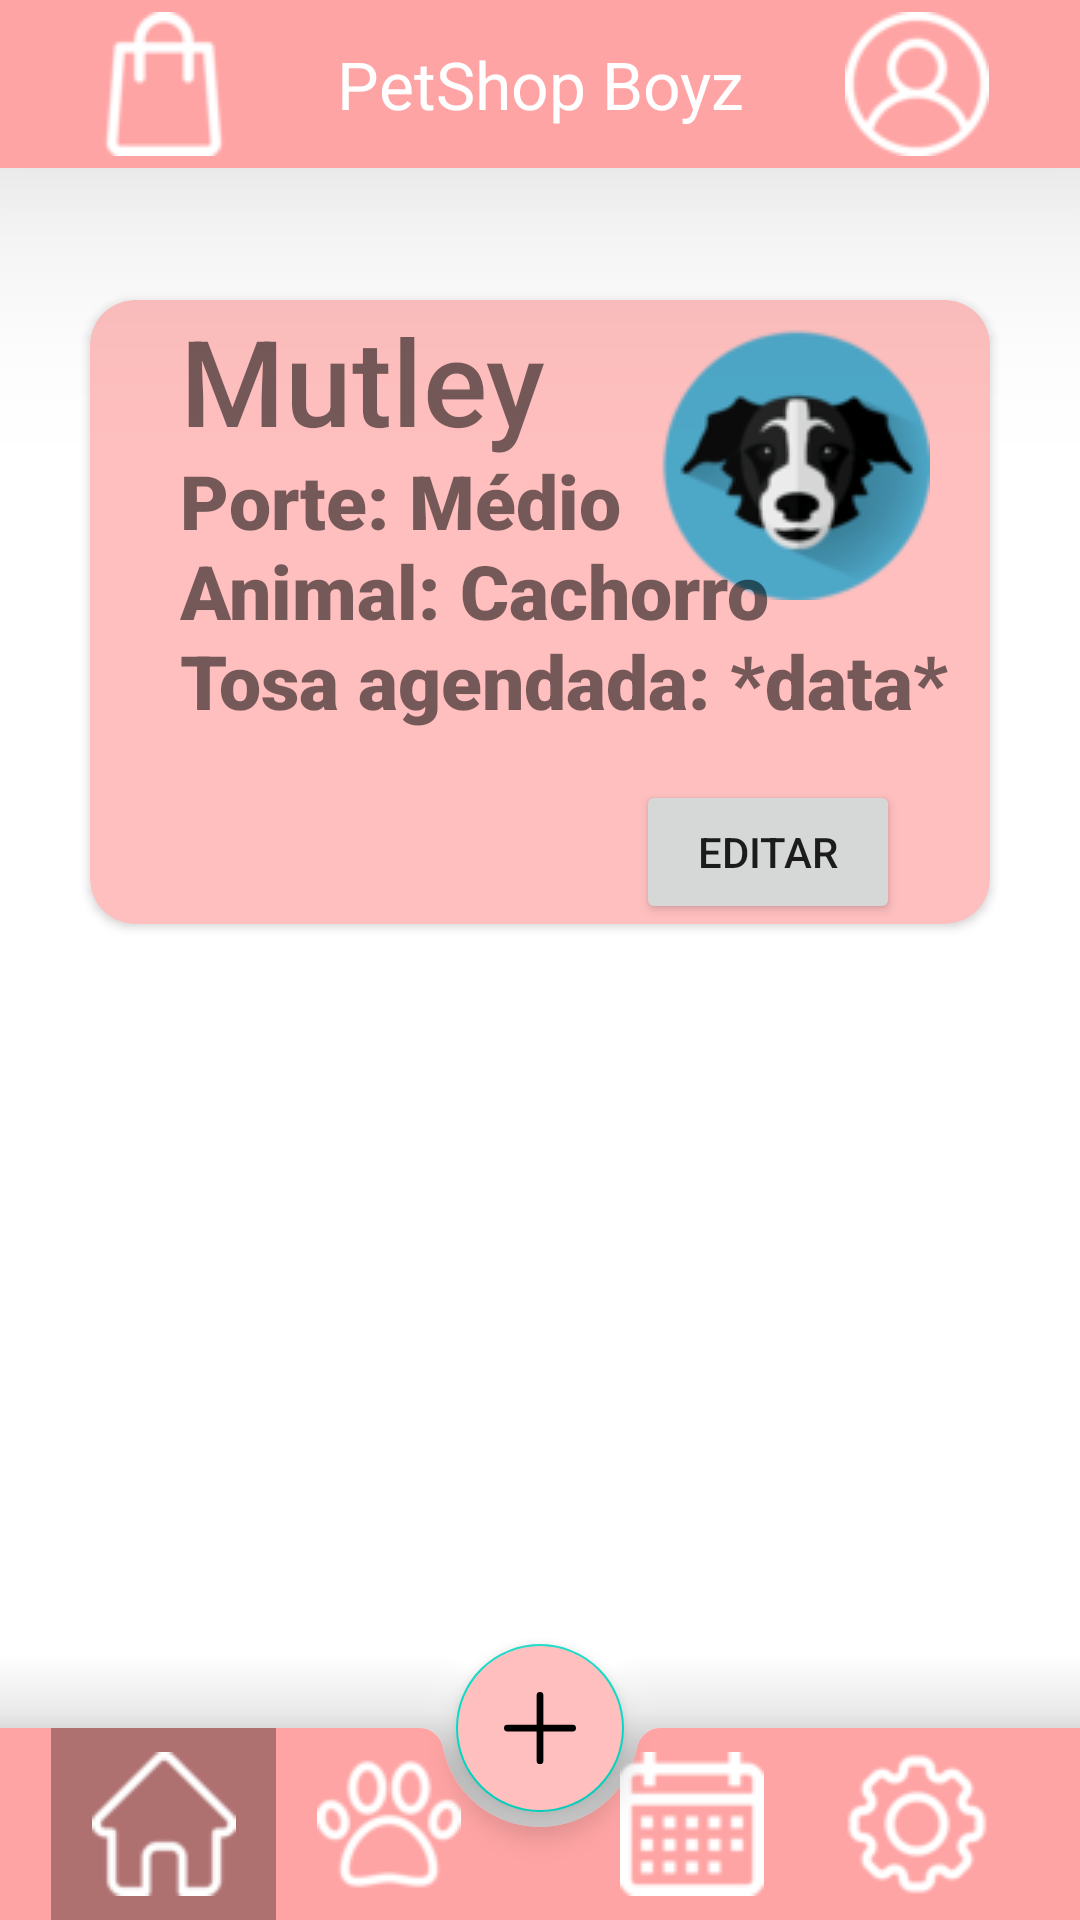

Icon click points for this 1080w x 1920h phone screenshot, format (x,y):
add: (540,1728)
calendar: (691,1824)
home: (163,1824)
pet: (795,465), (388,1824)
setting: (917,1824)
user: (917,84)
